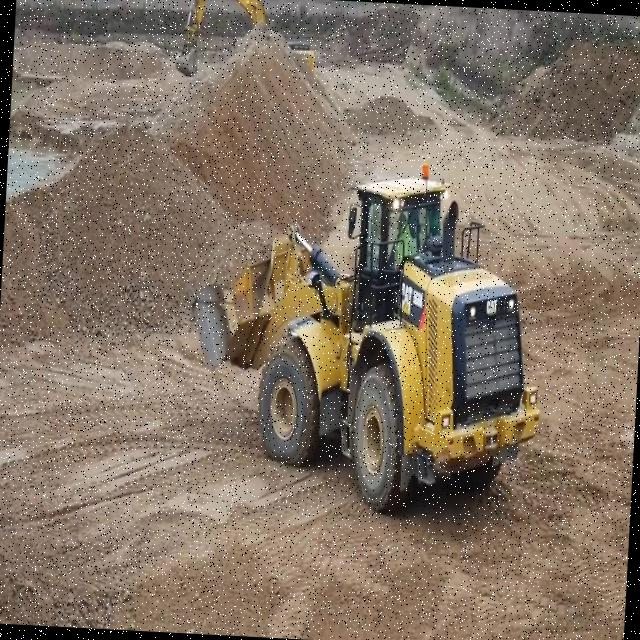Excavator: (172, 0, 318, 82)
Loader: (172, 145, 554, 528)
